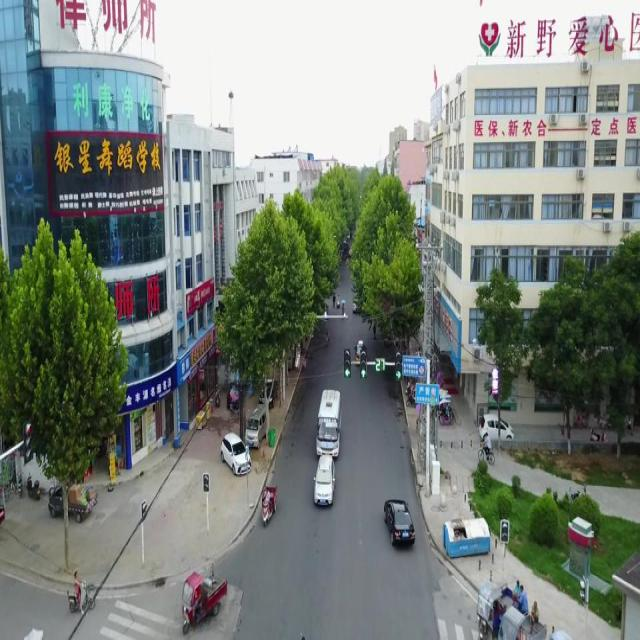bike: (67, 577, 96, 614), (477, 441, 495, 464)
car: (384, 498, 416, 546)
person: (73, 569, 84, 614)
tree: (29, 226, 128, 572), (218, 196, 316, 406), (524, 255, 605, 454), (473, 264, 528, 452)
